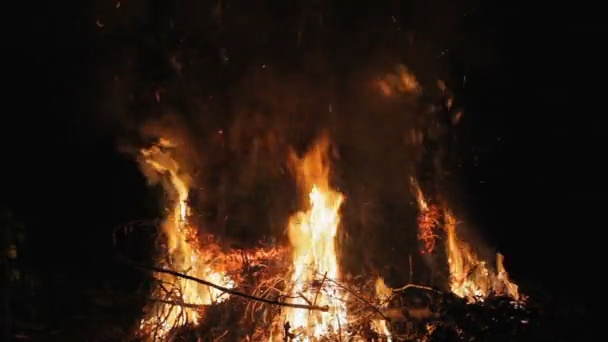fire: (279, 146, 345, 340), (150, 221, 227, 328), (445, 254, 513, 300), (168, 162, 188, 219), (371, 318, 386, 333)
